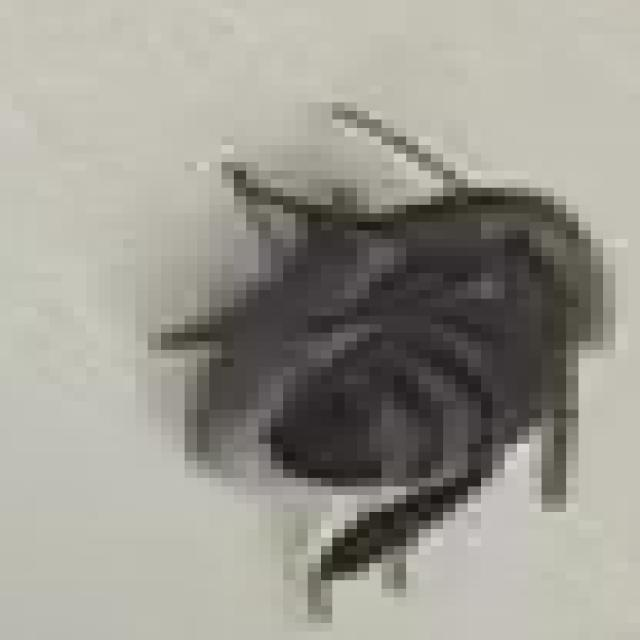honeybee: (123, 51, 615, 640)
